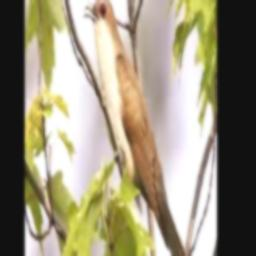Cuckoo: (83, 0, 210, 256)
